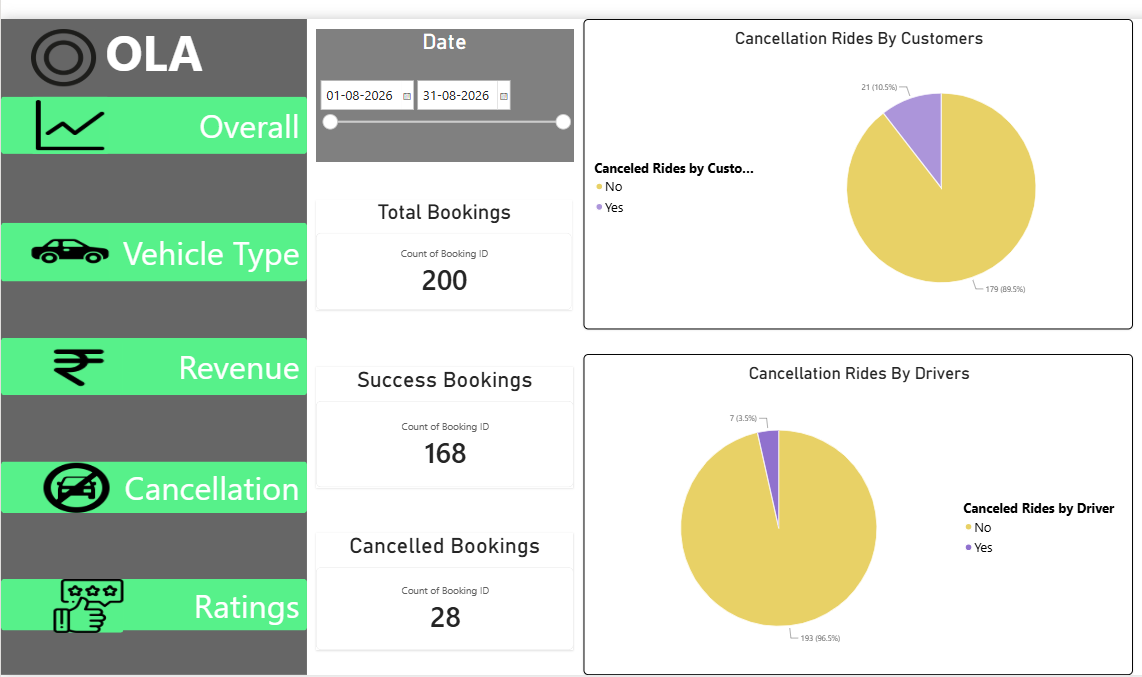

Layout of this report page (visuals, bound fields, positions):
{"tool":"powerbi","page":{"name":"Cancellation","canvas":[1920,1080],"ordinal":3},"visuals":[{"type":"shape","box":[0,0,503.8,1080.1],"z":0},{"type":"actionButton","box":[0,127,503.8,94.7],"z":1000},{"type":"actionButton","box":[0,334.5,503.8,96.7],"z":2000},{"type":"actionButton","box":[0,523.9,503.8,94.7],"z":3000},{"type":"actionButton","box":[0,729.5,503.8,84.6],"z":4000},{"type":"actionButton","box":[0,922.9,503.8,84.6],"z":5000},{"type":"actionButton","box":[70.5,731.5,108.8,82.6],"z":6000},{"type":"actionButton","box":[86.7,922.9,114.9,88.7],"z":7000},{"type":"actionButton","box":[50.4,346.6,129,84.6],"z":8000},{"type":"actionButton","box":[50.4,127,129,94.7],"z":9000},{"type":"actionButton","box":[50.4,528,151.1,90.7],"z":10000},{"type":"actionButton","box":[50.4,16.1,106.8,94.7],"z":11000},{"type":"pieChart","title":"Cancellation Rides By Customers","fields":{"Category":["Booking Data.Canceled Rides by Customer"],"Y":["CountNonNull(Booking Data.Reason for Canceling by Customer)"]},"box":[960,0,904.4,511],"z":11001},{"type":"pieChart","title":"Cancellation Rides By Drivers","fields":{"Category":["Booking Data.Canceled Rides by Driver"],"Y":["CountNonNull(Booking Data.Reason for Canceling by Driver)"]},"box":[960,551.6,904.8,528.4],"z":11002},{"type":"slicer","title":"Date","fields":{"Values":["Booking Data.Date"]},"box":[519.6,17.1,423.3,218.1],"z":11003},{"type":"cardVisual","title":"Total Bookings","fields":{"Data":["CountNonNull(Booking Data.Booking ID)"]},"box":[518.7,298.5,422,181.1],"z":11004},{"type":"cardVisual","title":"Success Bookings","fields":{"Data":["CountNonNull(Booking Data.Booking ID)"]},"box":[518.7,572.2,424,199.7],"z":11005},{"type":"cardVisual","title":"Cancelled Bookings","fields":{"Data":["CountNonNull(Booking Data.Booking ID)"]},"box":[518.7,846,424,193.5],"z":11006}]}

Visuals, with their boxes in screenshot pixels (x1, y1, x2, y2):
shape: <region>0, 15, 303, 672</region>
actionButton: <region>0, 92, 303, 150</region>
actionButton: <region>0, 218, 303, 277</region>
actionButton: <region>0, 333, 303, 391</region>
actionButton: <region>0, 459, 303, 510</region>
actionButton: <region>0, 576, 303, 628</region>
actionButton: <region>40, 460, 106, 510</region>
actionButton: <region>50, 576, 120, 630</region>
actionButton: <region>28, 226, 106, 277</region>
actionButton: <region>28, 92, 106, 150</region>
actionButton: <region>28, 336, 120, 391</region>
actionButton: <region>28, 25, 93, 82</region>
"Cancellation Rides By Customers" pieChart: <region>581, 15, 1131, 326</region>
"Cancellation Rides By Drivers" pieChart: <region>581, 350, 1131, 672</region>
"Date" slicer: <region>313, 25, 570, 158</region>
"Total Bookings" cardVisual: <region>312, 196, 569, 307</region>
"Success Bookings" cardVisual: <region>312, 363, 570, 484</region>
"Cancelled Bookings" cardVisual: <region>312, 529, 570, 647</region>
